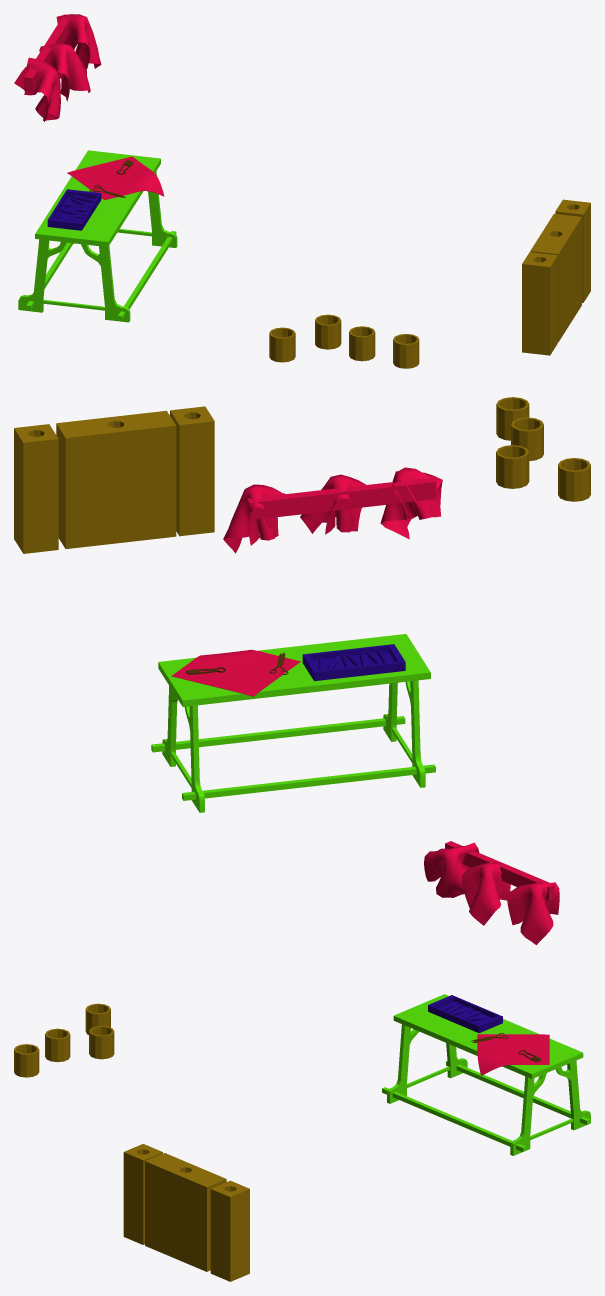
File: Smithy.fbx
3 renders of one model, top to bottom at view 1: azimuth 30°, elevation 25°; view 2: azimuth 150°, elevation 25°; view 3: azimuth 270°, elevation 25°, orthographic. The views are drawn at different scales.
Visible parts, largest first — view 1: Smithy_Items, TailorTable, Cloth1, Hilos1, ApoyaTelas; view 2: Smithy_Items, TailorTable, Cloth1, ApoyaTelas, Hilos1; view 3: Smithy_Items, TailorTable, Cloth1, Hilos1, ApoyaTelas.
Part boxes in pixels (x1,y1,x2,y2): Smithy_Items: (269,199,590,368); TailorTable: (18,150,177,322); Cloth1: (14,14,164,199); Hilos1: (47,189,101,230); ApoyaTelas: (24,14,69,91); Smithy_Items: (14,397,590,553); TailorTable: (151,634,435,812); Cloth1: (171,467,442,696); ApoyaTelas: (247,477,436,520); Hilos1: (302,644,405,681); Smithy_Items: (14,1003,249,1281); TailorTable: (382,994,590,1155); Cloth1: (424,842,559,1075); Hilos1: (428,995,502,1032); ApoyaTelas: (445,841,554,900).
Bounding box in the file's own units: 6.9 × 3.6 × 7.97.
